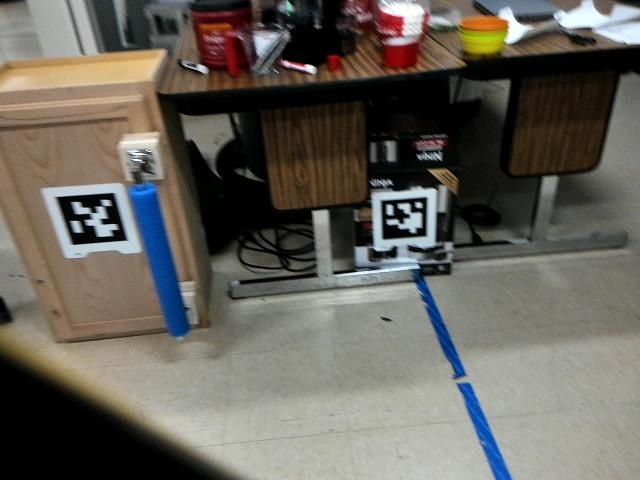noodle_handle: (126, 181, 200, 338)
